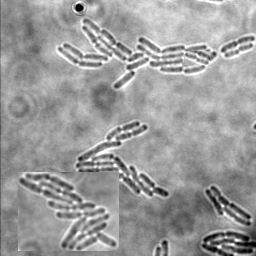Dividing: (219, 34, 255, 52), (223, 41, 253, 57), (184, 51, 210, 65)
Microcolony: (57, 18, 216, 89), (18, 172, 119, 251), (75, 120, 169, 197), (204, 184, 251, 226), (200, 230, 255, 255)
